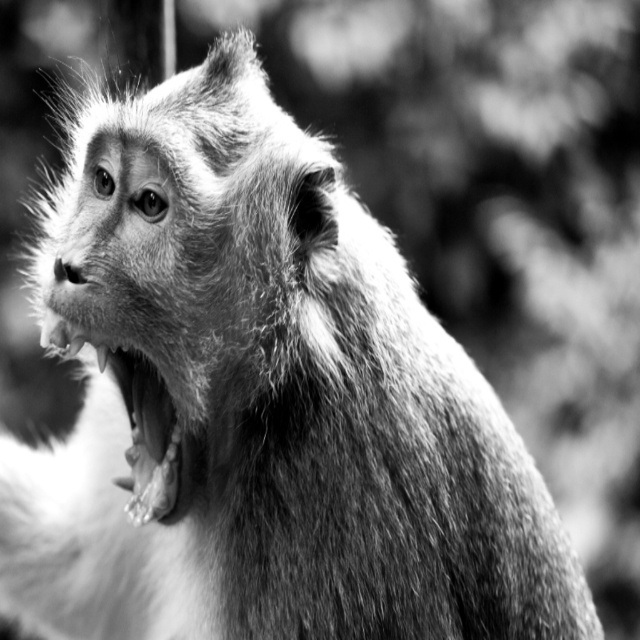Monkey: (28, 38, 606, 640)
